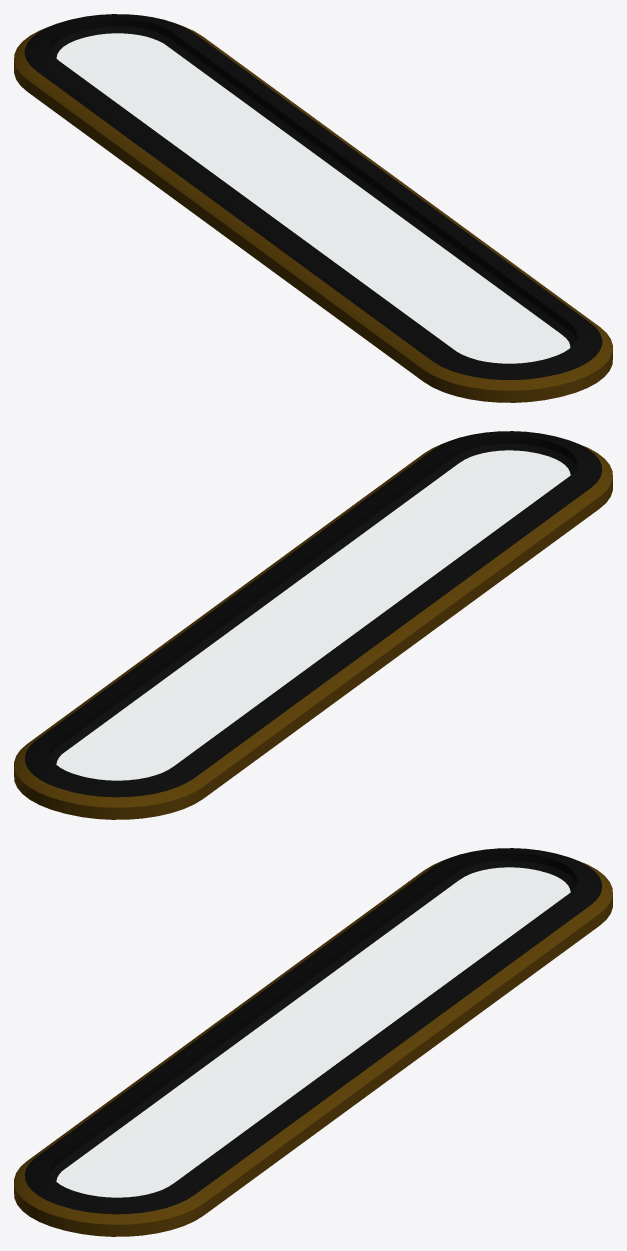
The model's file is TopPanel.fbx.
3 views of the same model, one above another, from view 1: azimuth 30°, elevation 25°; view 2: azimuth 150°, elevation 25°; view 3: azimuth 330°, elevation 25° (orthographic).
Visible parts, largest first — view 1: TopPanel; view 2: TopPanel; view 3: TopPanel.
Boxes of the visible parts, x1,y1,x2,y2 form: TopPanel: (14,14,612,402); TopPanel: (14,431,612,819); TopPanel: (14,848,612,1236).
Size of the model in its own units: 0.2051 by 0.0268 by 1.
